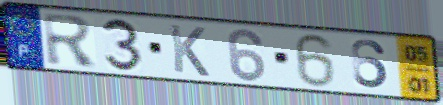3: (100, 16, 146, 75)
6: (294, 32, 338, 90), (224, 27, 268, 83), (349, 38, 392, 92)
K: (167, 22, 212, 79)
R: (40, 11, 101, 69)
